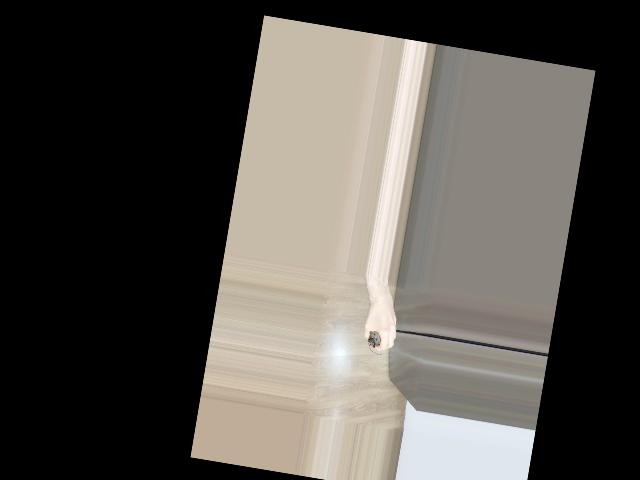beet: (365, 330, 385, 356)
